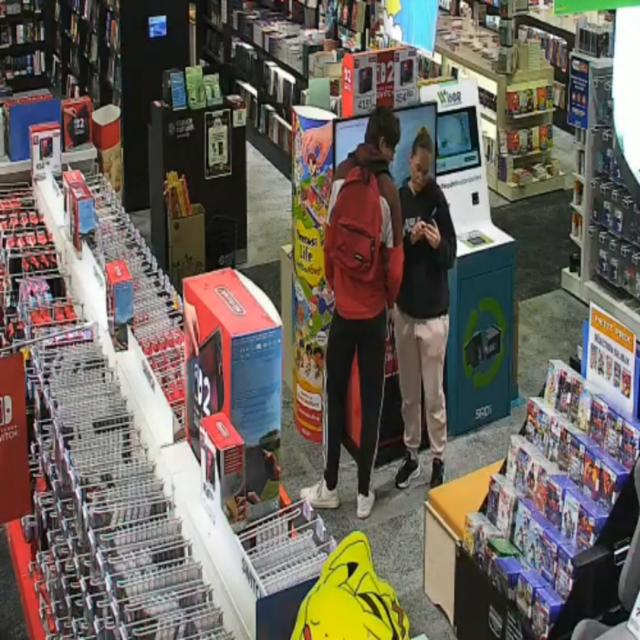bags: (331, 166, 382, 282)
hands: (423, 223, 441, 248), (411, 221, 426, 243)
person: (301, 108, 402, 518), (394, 128, 456, 488)
